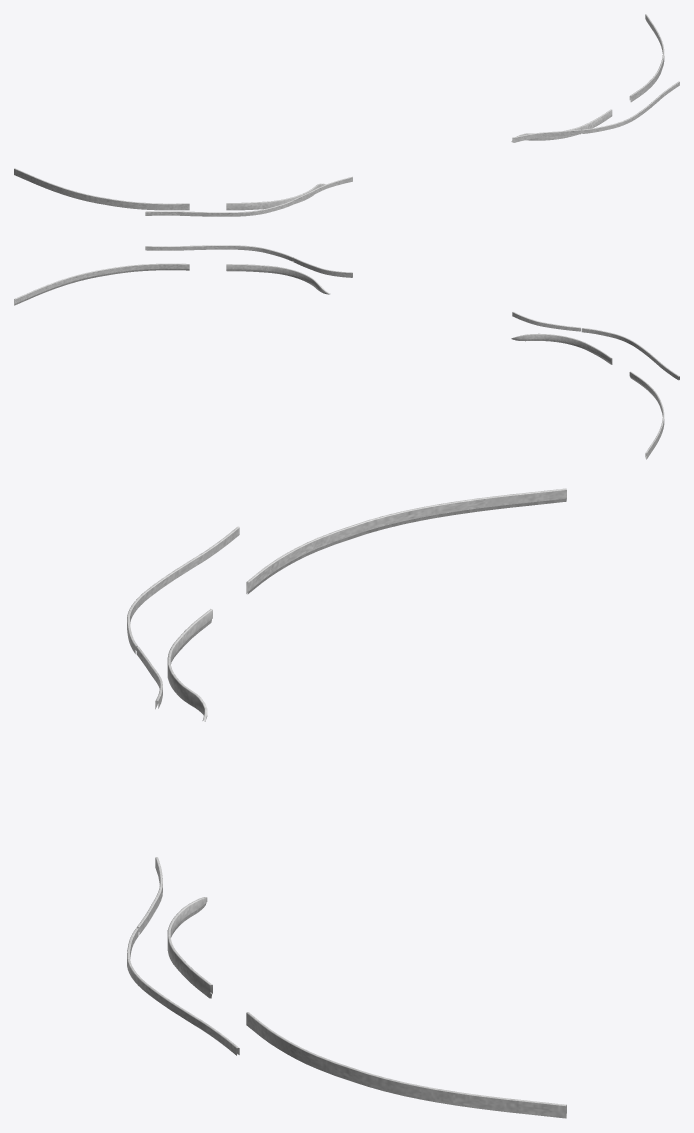
File: pref_sm_beach_techglass_north_lv3.fbx
3 renders of one model, top to bottom at view 1: azimuth 30°, elevation 25°; view 2: azimuth 150°, elevation 25°; view 3: azimuth 270°, elevation 25°, orthographic. The views are drawn at different scales.
Parts seen in each view (by area): view 1: sm_beach_techglass_north_a_lv3, sm_beach_techglass_north_b_lv3; view 2: sm_beach_techglass_north_a_lv3, sm_beach_techglass_north_b_lv3; view 3: sm_beach_techglass_north_a_lv3, sm_beach_techglass_north_b_lv3.
Part boxes in pixels (box(x1,y1,x2,y2)): sm_beach_techglass_north_a_lv3: box(14, 14, 679, 216); sm_beach_techglass_north_b_lv3: box(226, 109, 612, 210); sm_beach_techglass_north_a_lv3: box(14, 245, 679, 459); sm_beach_techglass_north_b_lv3: box(226, 264, 612, 364); sm_beach_techglass_north_a_lv3: box(127, 488, 566, 1118); sm_beach_techglass_north_b_lv3: box(167, 609, 212, 998).
Size of the model in its own units: 131 by 3.19 by 39.5.
